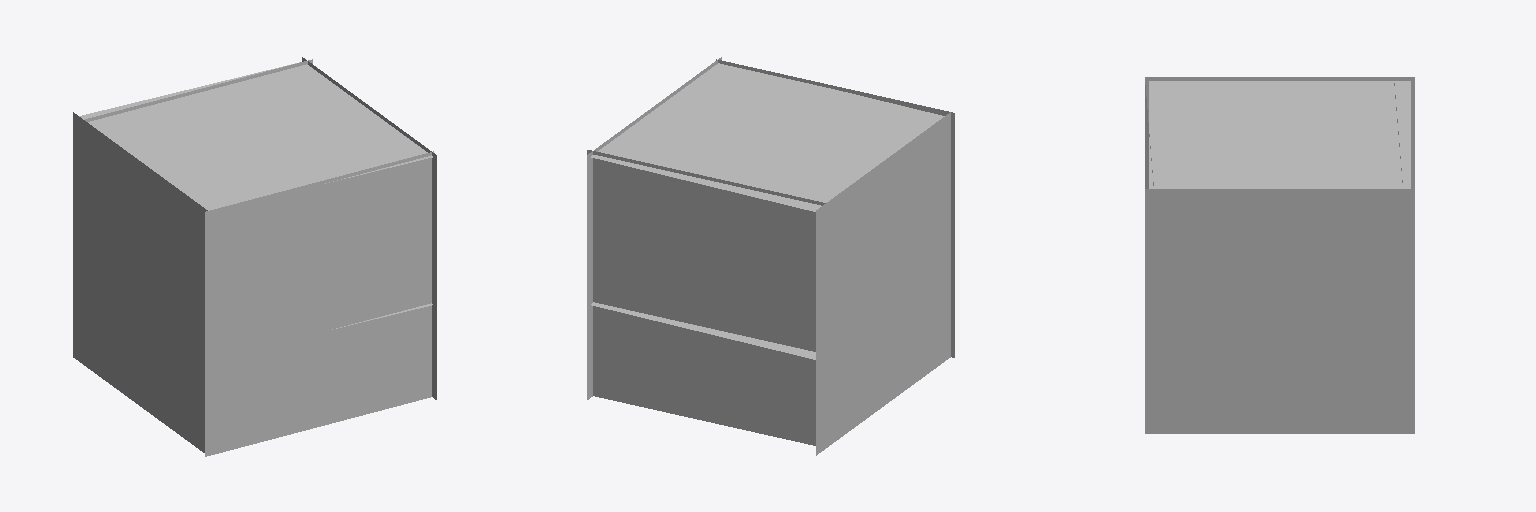
Rendered from tracktest2.obj.
The picture shows the model from 3 angles: view 1: azimuth 30°, elevation 25°; view 2: azimuth 150°, elevation 25°; view 3: azimuth 270°, elevation 25°; orthographic projection.
Parts seen in each view (by area): view 1: back_Plane.004, left_Plane.001, bottom.001_Plane.005, right_Plane.002, front_Plane.003; view 2: front_Plane.003, left_Plane.001, bottom.001_Plane.005, right_Plane.002, back_Plane.004, bottom_Plane; view 3: right_Plane.002, bottom.001_Plane.005, left_Plane.001.
Part boxes in pixels (x1,y1,x2,y2): back_Plane.004: (205, 151, 433, 456); left_Plane.001: (73, 112, 207, 452); bottom.001_Plane.005: (79, 62, 432, 210); right_Plane.002: (302, 57, 436, 399); front_Plane.003: (85, 59, 312, 121); front_Plane.003: (587, 150, 825, 445); left_Plane.001: (816, 112, 950, 455); bottom.001_Plane.005: (591, 63, 944, 211); right_Plane.002: (587, 57, 721, 399); back_Plane.004: (716, 59, 954, 357); bottom_Plane: (591, 302, 815, 359); right_Plane.002: (1145, 189, 1414, 433); bottom.001_Plane.005: (1149, 81, 1410, 188); left_Plane.001: (1145, 77, 1414, 188).
Size of the model in its own units: 5.85 by 5.77 by 5.77.